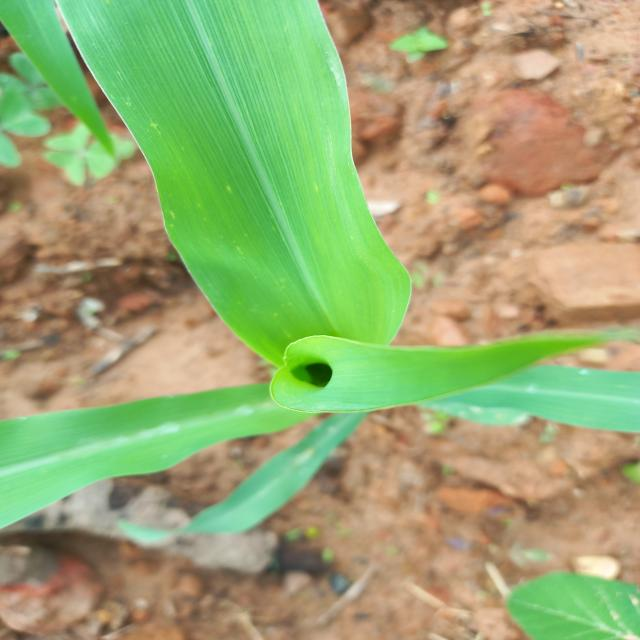maize: (1, 0, 640, 530)
weed: (506, 568, 640, 640), (47, 120, 141, 180), (377, 26, 466, 64)
